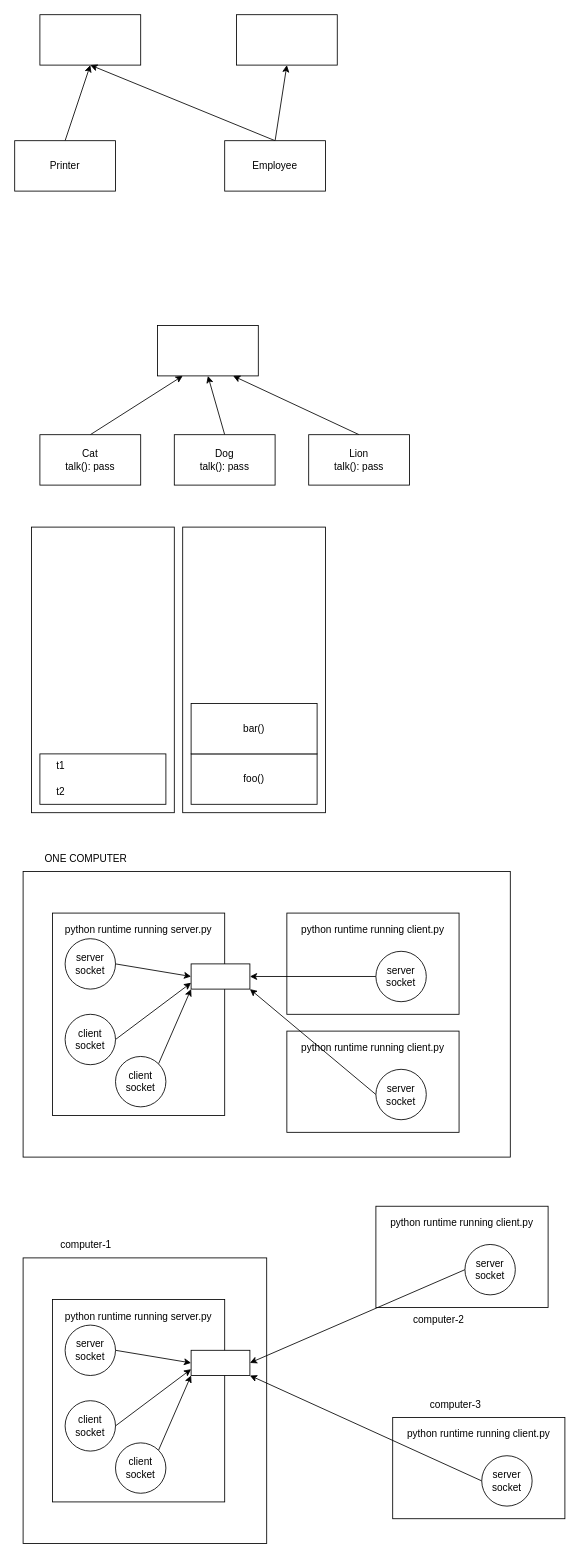
Image size: 580x1558. Some labels were removed from this diagram. Here are the shapes that lost their labels. From the top down, the box of each, then its label:
(39, 14, 141, 65): Resource
(236, 14, 337, 65): Person
(157, 325, 258, 376): Animal talk() -> None
(39, 753, 166, 804): run()
